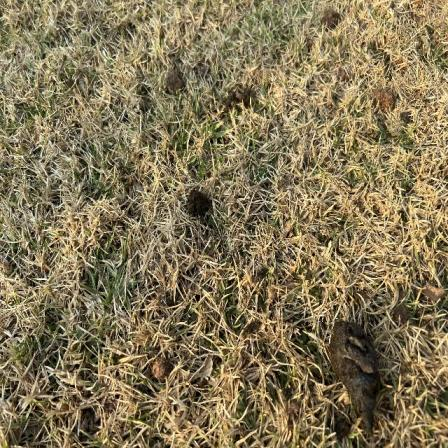dog-poop: (325, 315, 391, 433)
